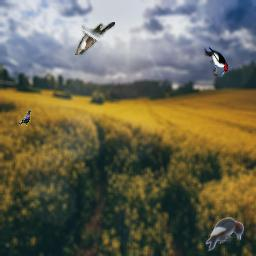Crow: (19, 110, 31, 126)
Cuckoo: (75, 22, 115, 55)
Woodpecker: (205, 217, 245, 251), (204, 45, 231, 77)
